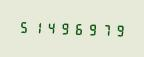five: (17, 18, 29, 35)
four: (43, 19, 55, 36)
nine: (56, 19, 68, 36), (82, 20, 94, 37), (108, 21, 120, 38)
one: (30, 18, 42, 35)
seven: (95, 20, 107, 38)
six: (69, 19, 81, 37)
